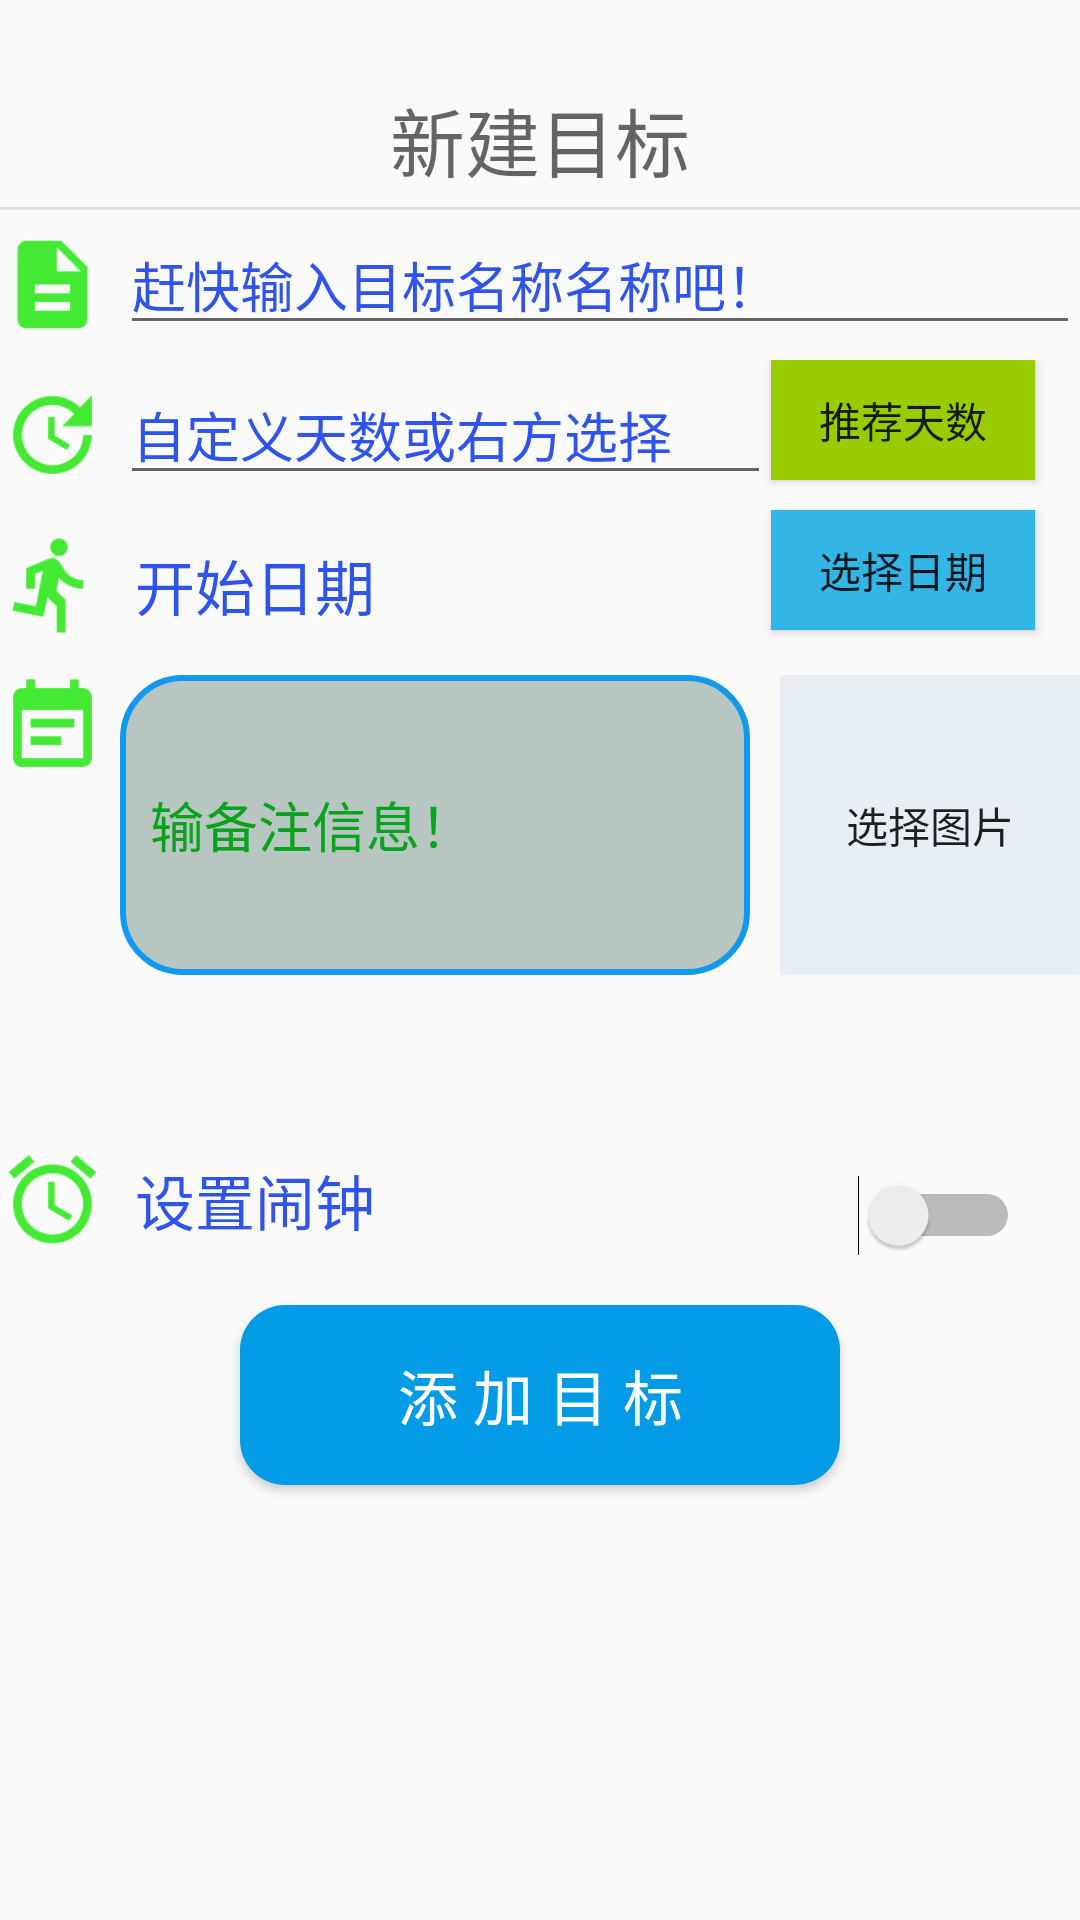

Point at icon controls on the screen. Image size 1080 × 1920, points as (x,y).
add clock: (52,1199)
add note: (52,723)
